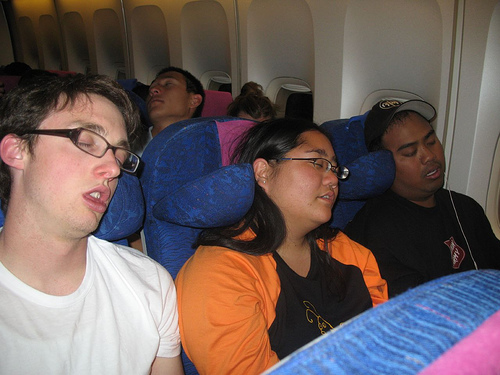without_mask: (26, 89, 142, 242), (255, 129, 353, 243), (379, 111, 453, 197), (148, 67, 205, 127)
